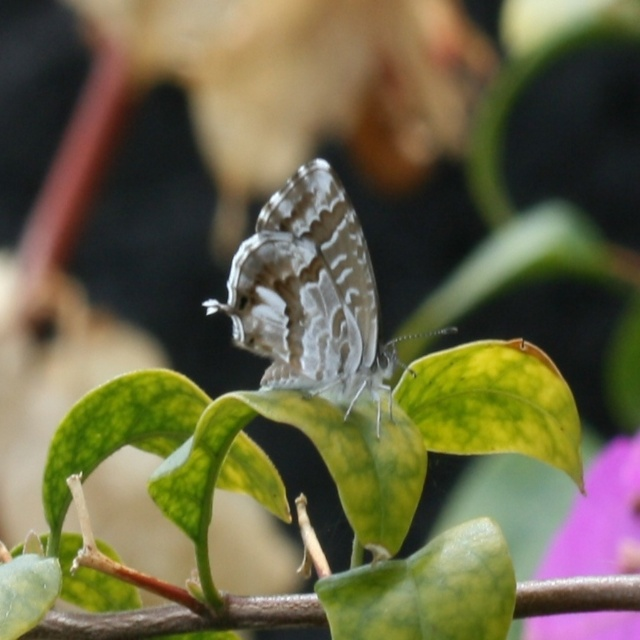Butterfly: (199, 155, 460, 442)
